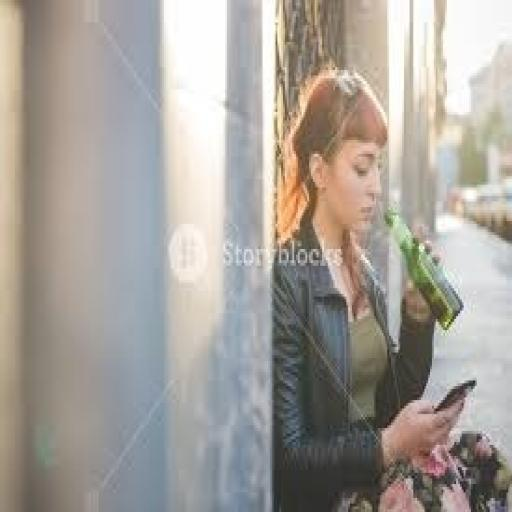texting: (270, 64, 469, 510)
